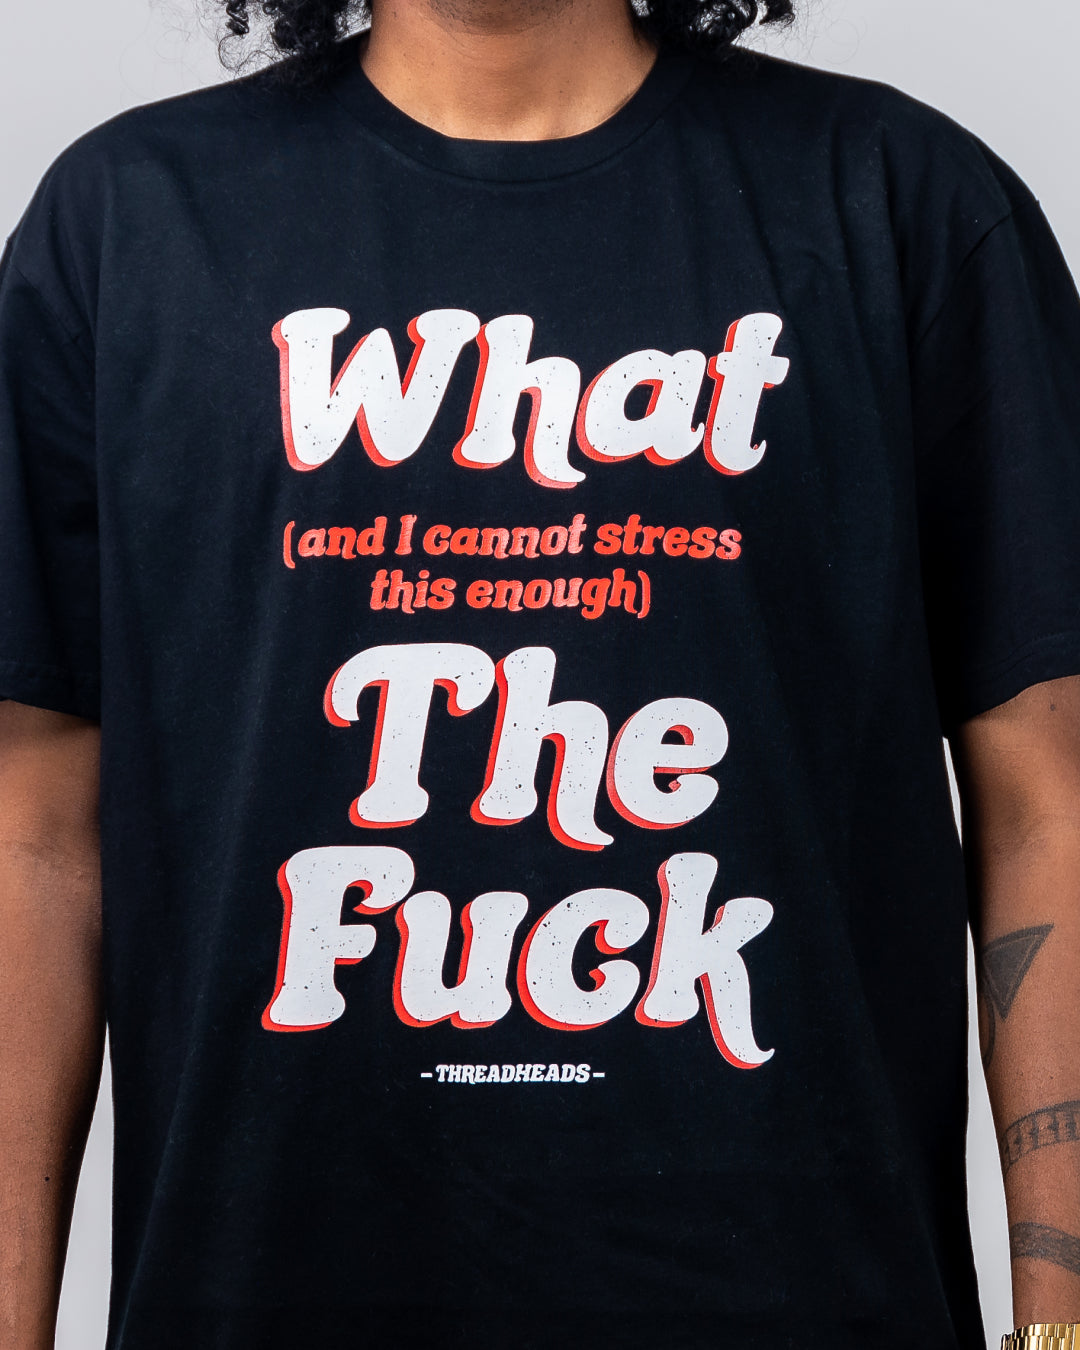design: (251, 300, 799, 1092)
